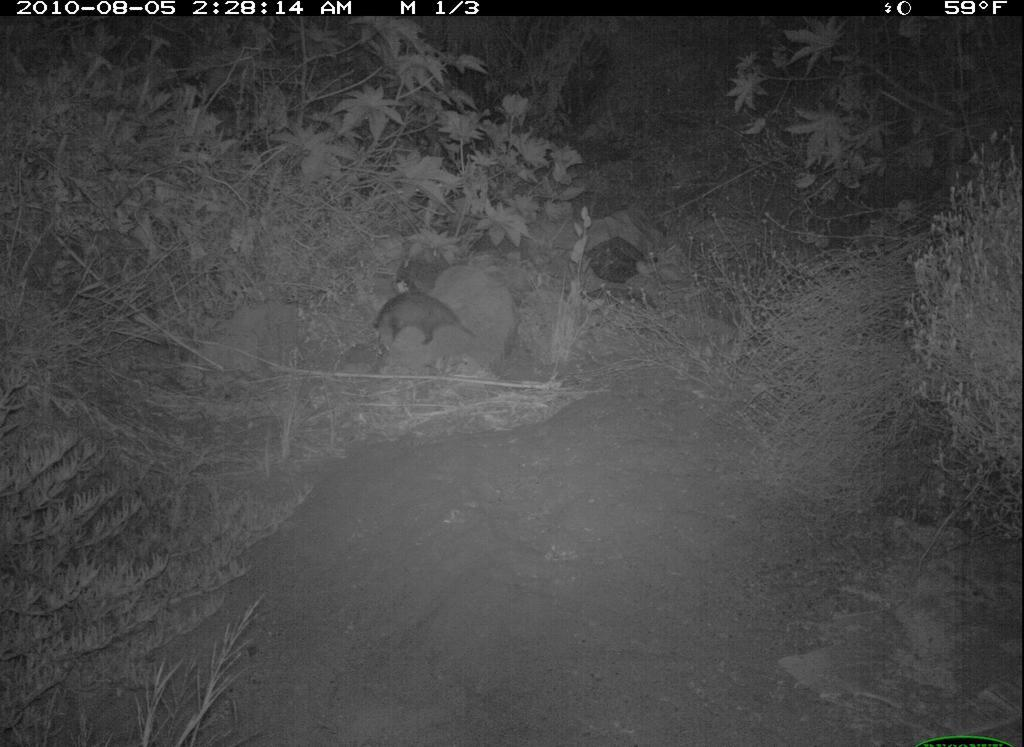opossum: (372, 281, 487, 350)
